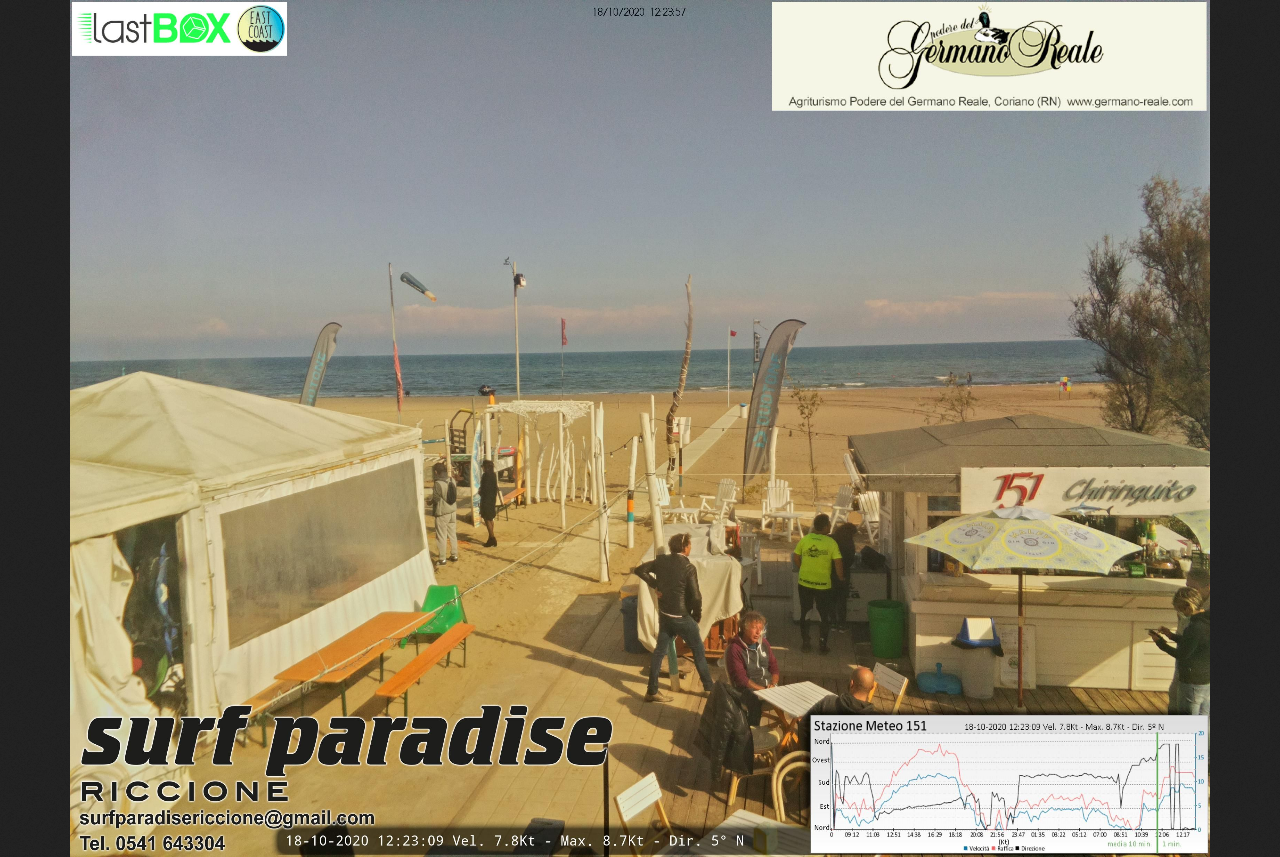maybe: (557, 312, 569, 346)
yes: (727, 323, 741, 338)
